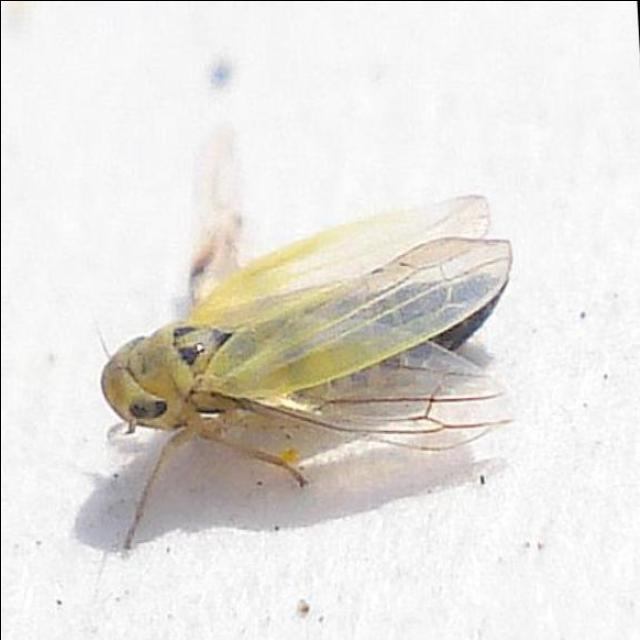green leaf hopper: (101, 195, 511, 484)
